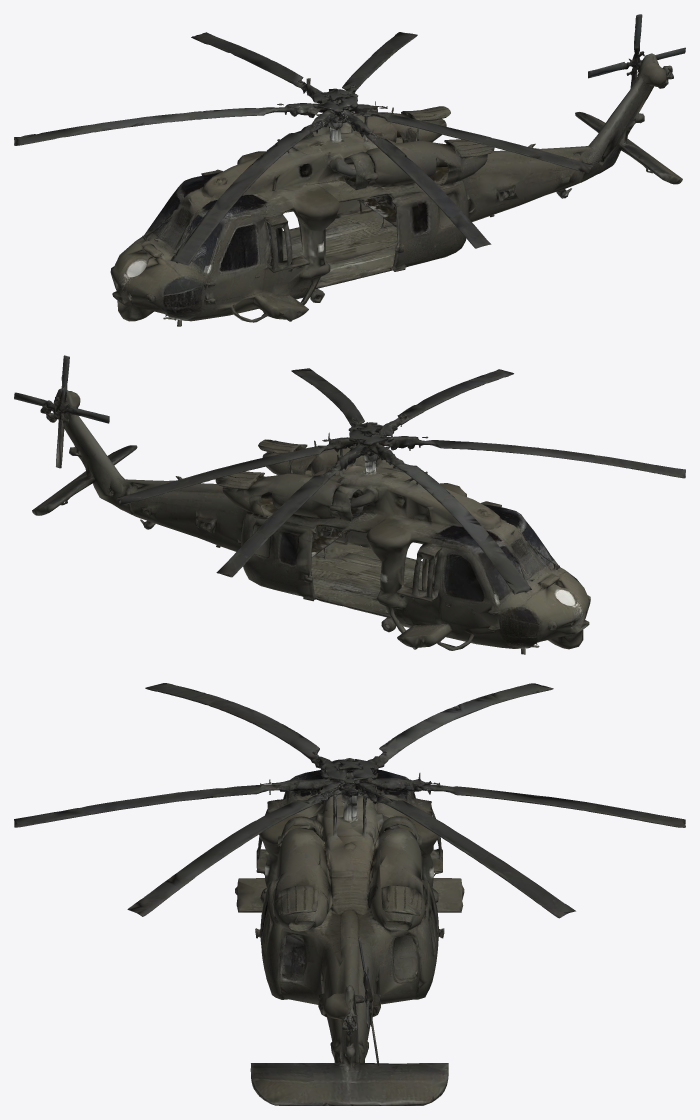
Rendered from crashed_helicopter.glb.
The picture shows the model from 3 angles, top to bottom: view 1: azimuth 30°, elevation 25°; view 2: azimuth 150°, elevation 25°; view 3: azimuth 270°, elevation 25°; orthographic projection. The views are drawn at different scales.
Size of the model in its own units: 1.9 by 0.5346 by 1.57.
1 material, 1 textured.
